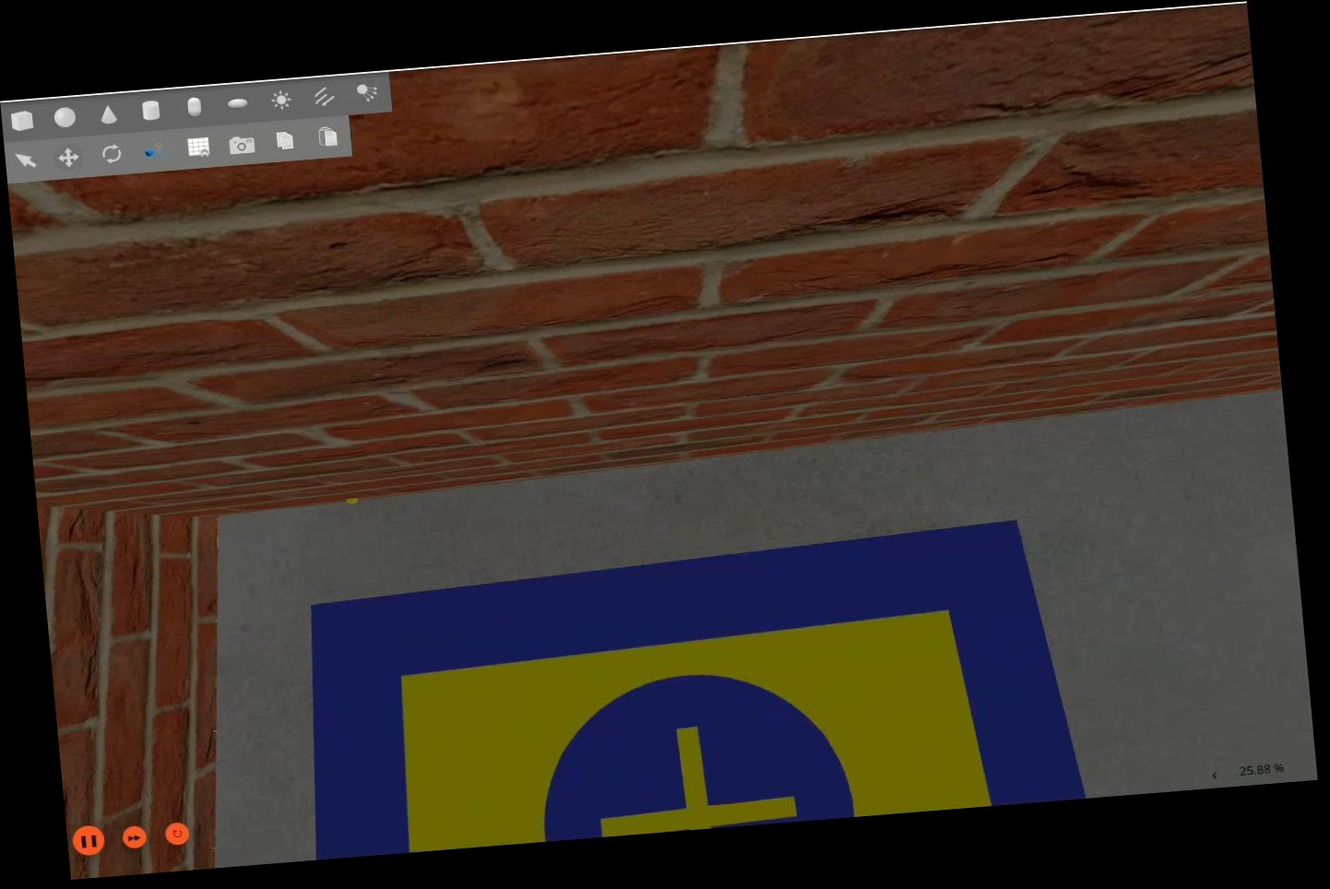large_base: (292, 517, 1085, 863)
